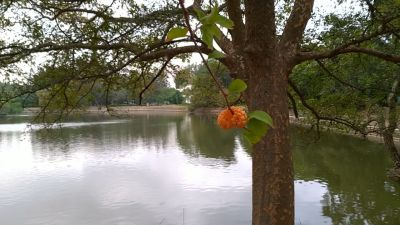eggs: (216, 105, 249, 132)
